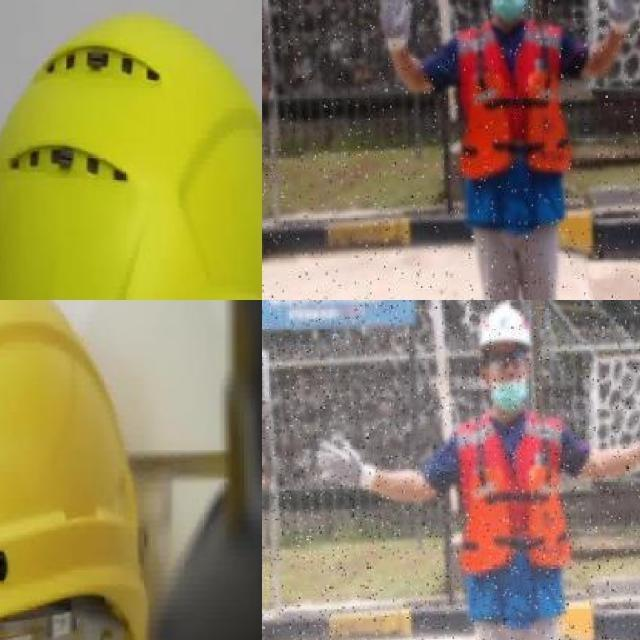apron: (314, 440, 376, 494), (376, 0, 413, 53), (599, 0, 637, 38)
